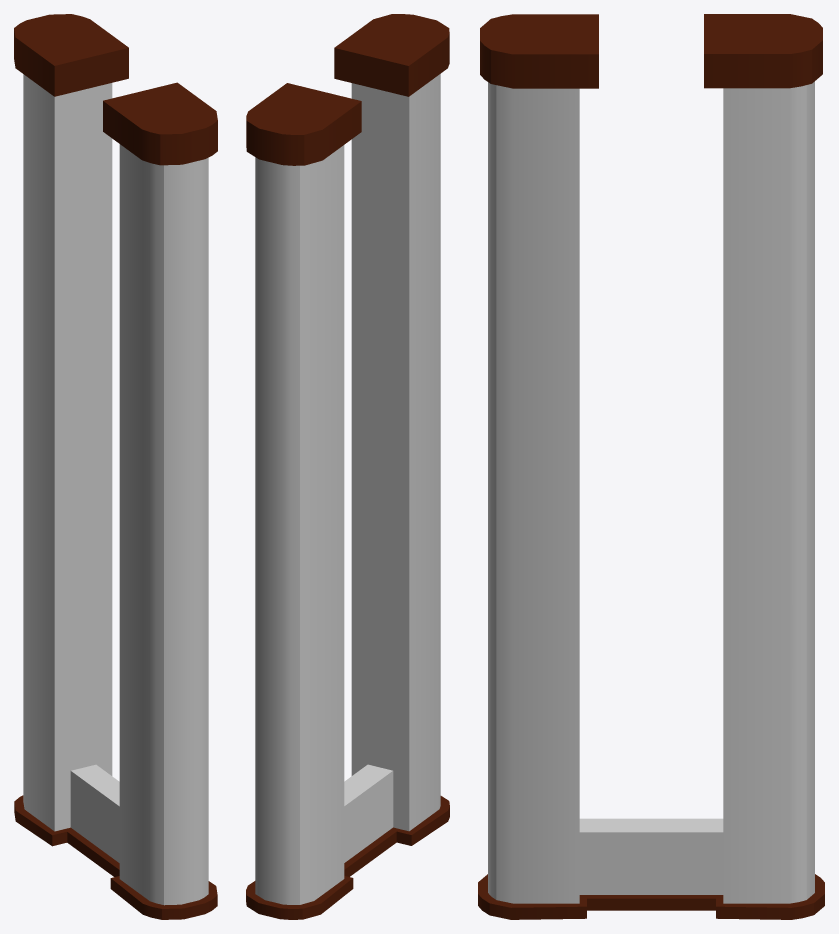
The model's file is Pillar2.glb.
The picture shows the model from 3 angles, left to right: view 1: azimuth 30°, elevation 25°; view 2: azimuth 150°, elevation 25°; view 3: azimuth 270°, elevation 25°; orthographic projection. The views are drawn at different scales.
Parts seen in each view (by area): view 1: Cube.043; view 2: Cube.043; view 3: Cube.043.
Boxes of the visible parts, x1,y1,x2,y2 form: Cube.043: (14, 14, 217, 919); Cube.043: (246, 14, 449, 919); Cube.043: (478, 14, 824, 919).
Size of the model in its own units: 2.32 by 23.16 by 8.41.
